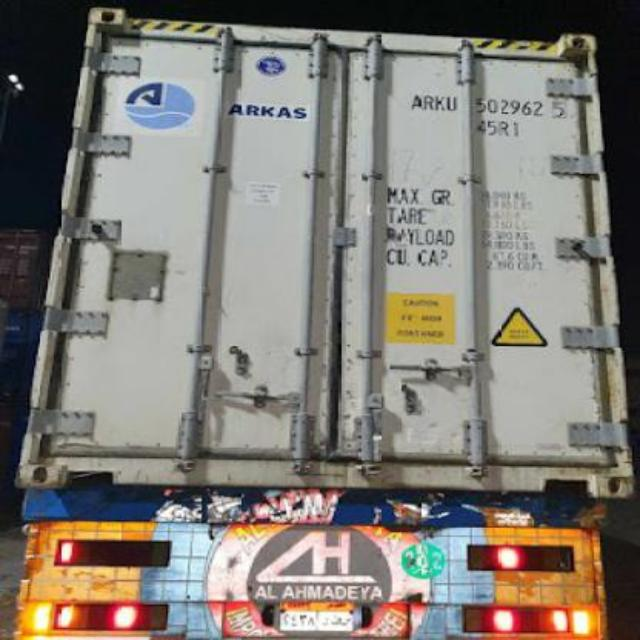0: (488, 96, 498, 114)
2: (496, 99, 512, 115), (534, 99, 544, 117)
5: (474, 96, 488, 114), (552, 99, 566, 117)
6: (520, 99, 532, 117)
9: (510, 99, 520, 115)
A: (410, 93, 422, 111)
K: (434, 94, 446, 112)
R: (422, 94, 434, 110)
U: (446, 94, 458, 114)
